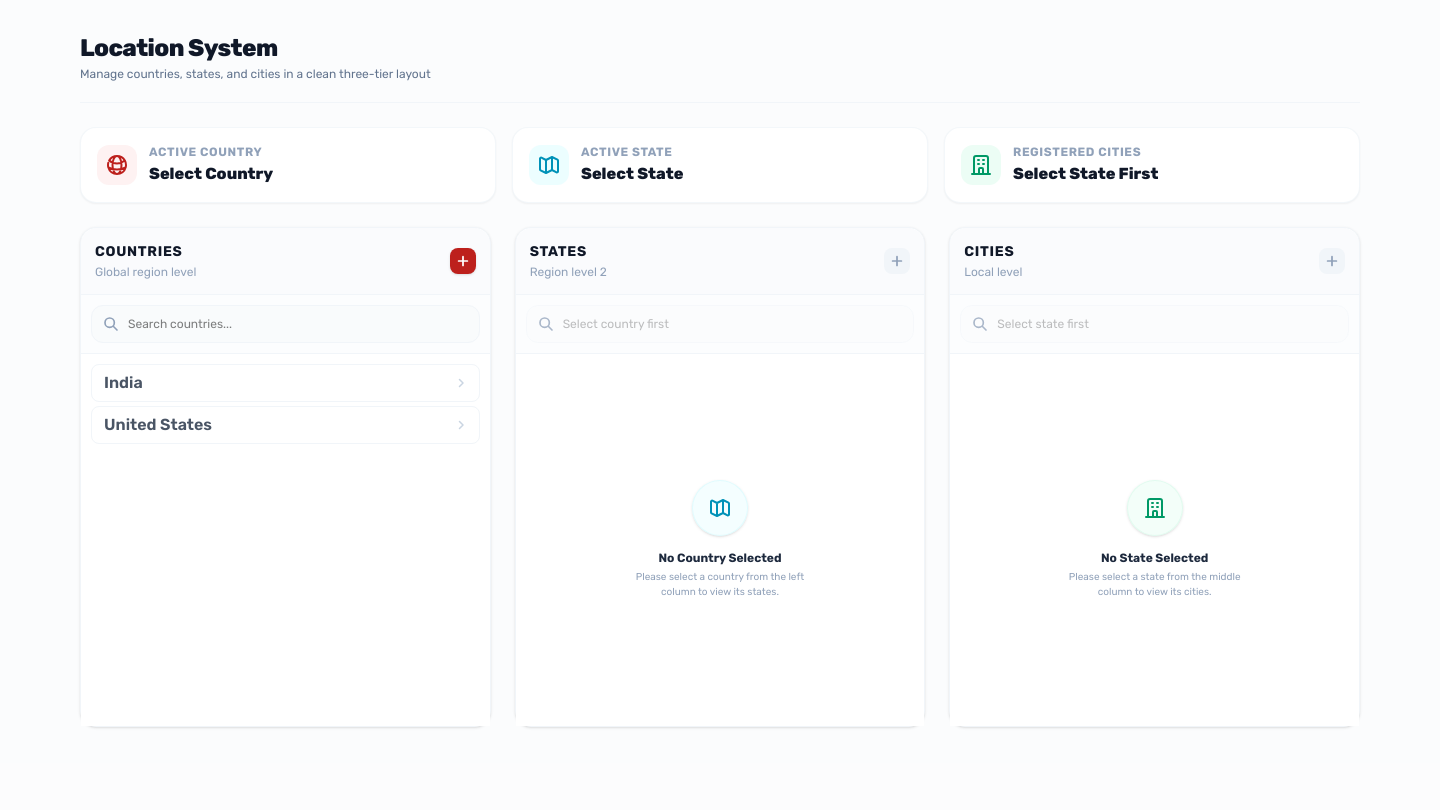
LocationManagement Component › should show cities when a state is selected
# Select country
Click the text "India".
click(123, 383)  # box [104,371,143,395]
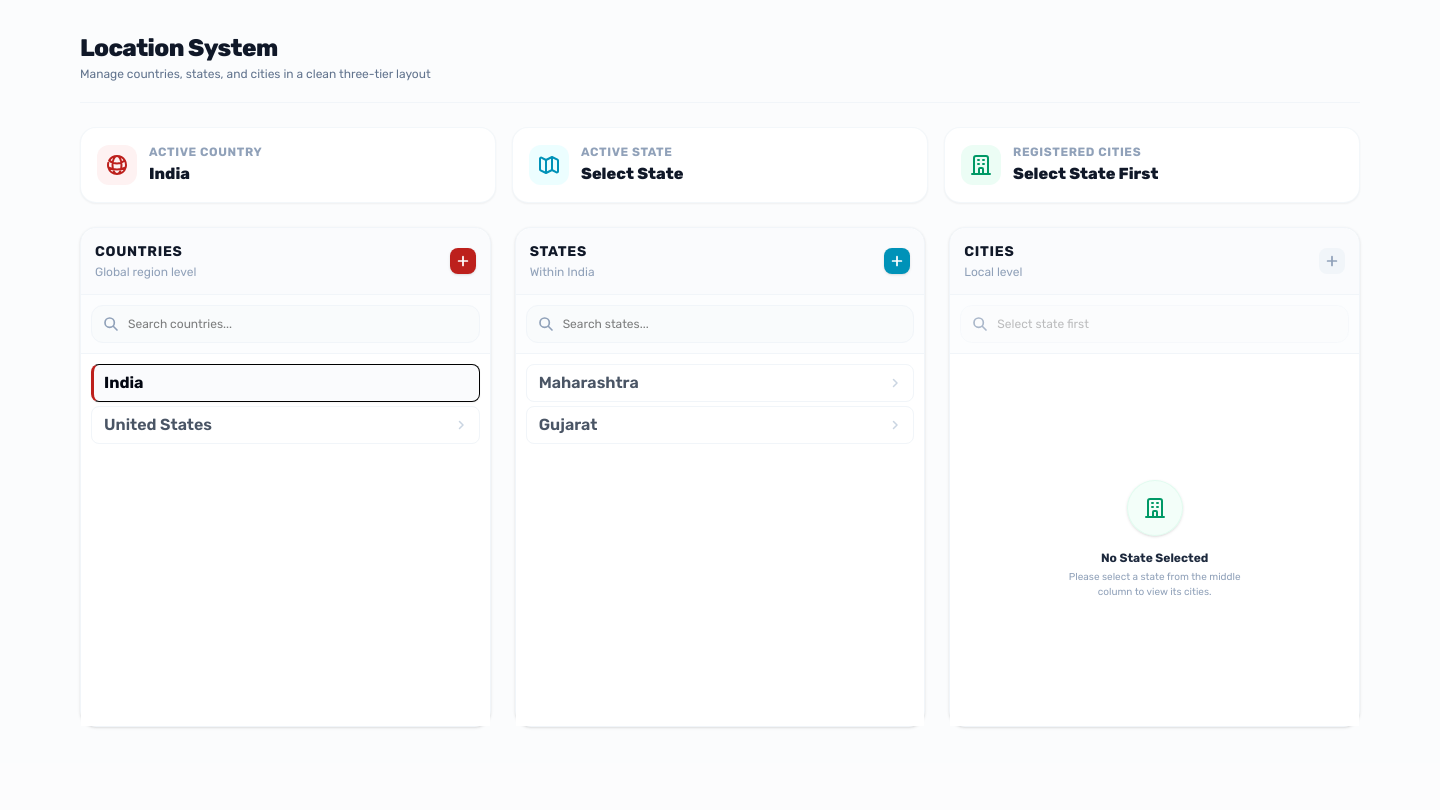
# Select state
Click the text "Maharashtra".
click(589, 383)  # box [539,371,639,395]
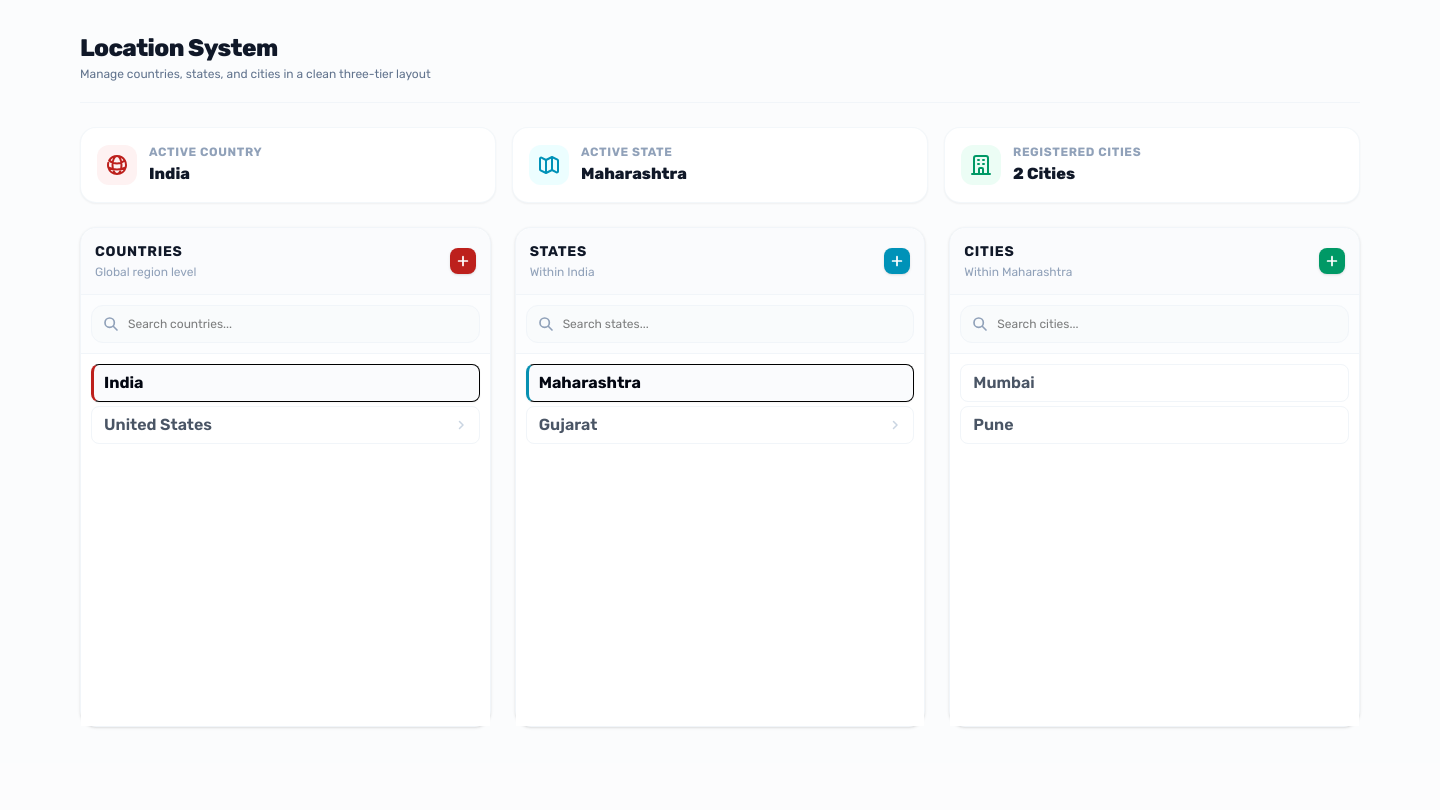
Expected: the text "Mumbai" is shown, [973,371,1035,395]
Expected: the text "Pune" is shown, [973,413,1014,437]
